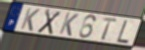6: (78, 14, 97, 40)
K: (57, 12, 80, 38), (19, 7, 41, 33)
L: (115, 19, 130, 45)
T: (100, 17, 120, 41)
X: (36, 8, 63, 36)
